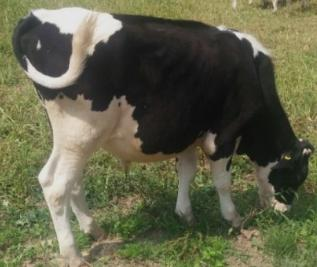cow: (13, 7, 314, 267)
